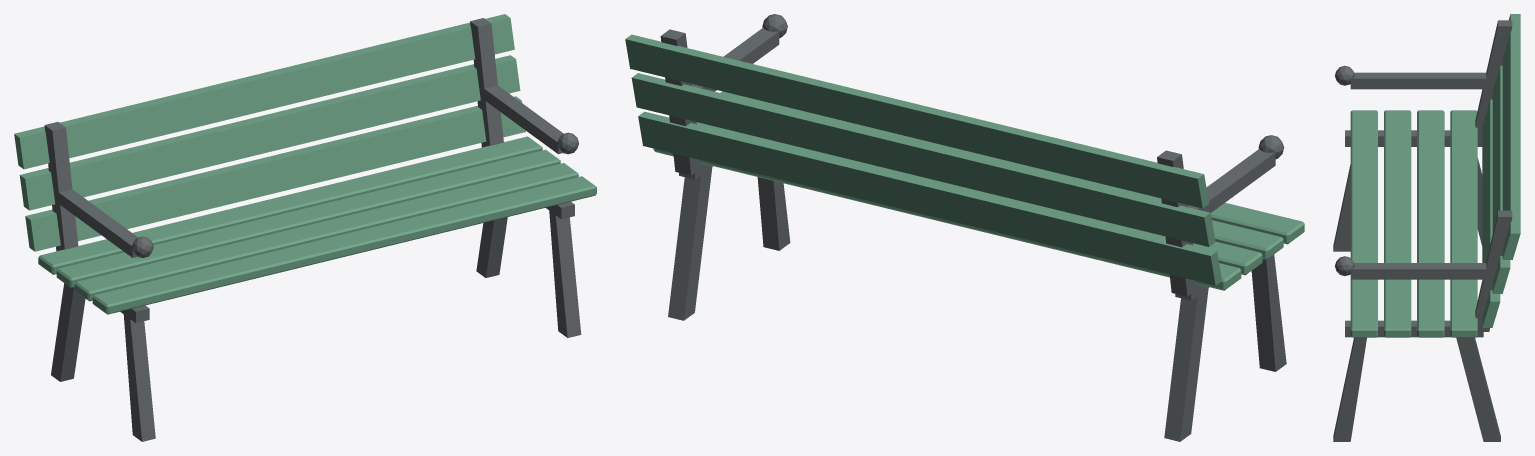
File: bench.glb
3 views of the same model, side by side, from view 1: azimuth 30°, elevation 25°; view 2: azimuth 150°, elevation 25°; view 3: azimuth 270°, elevation 25° (orthographic). The views are drawn at different scales.
Visible parts, largest first — view 1: bench_bench_g, bench_iron; view 2: bench_bench_g, bench_iron; view 3: bench_bench_g, bench_iron.
Boxes of the visible parts, x1,y1,x2,y2 form: bench_bench_g: (14,14,596,314); bench_iron: (44,18,581,441); bench_bench_g: (625,34,1304,290); bench_iron: (660,14,1286,441); bench_bench_g: (1350,14,1520,337); bench_iron: (1333,20,1512,441).
Size of the model in its own units: 1.8 by 0.86 by 0.6484.
